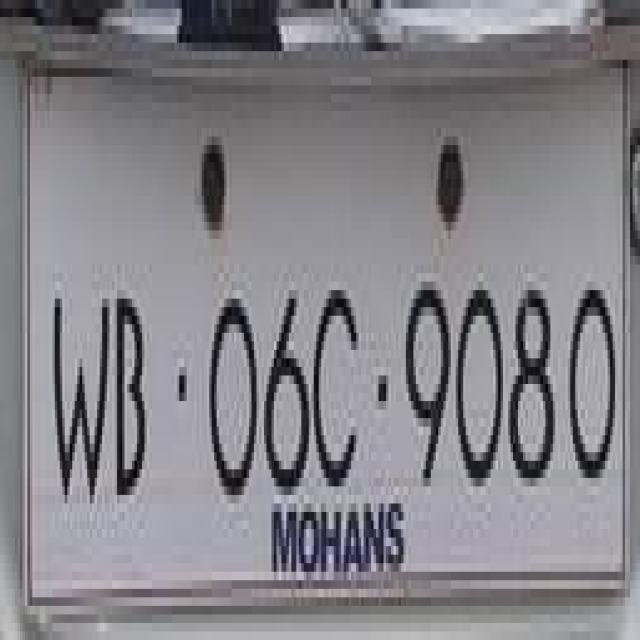license_plate: (25, 94, 640, 597)
